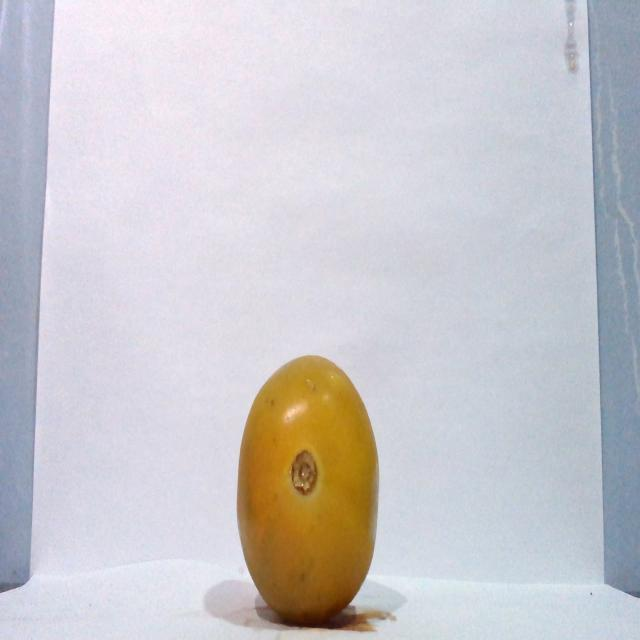Red: (234, 353, 380, 624)
